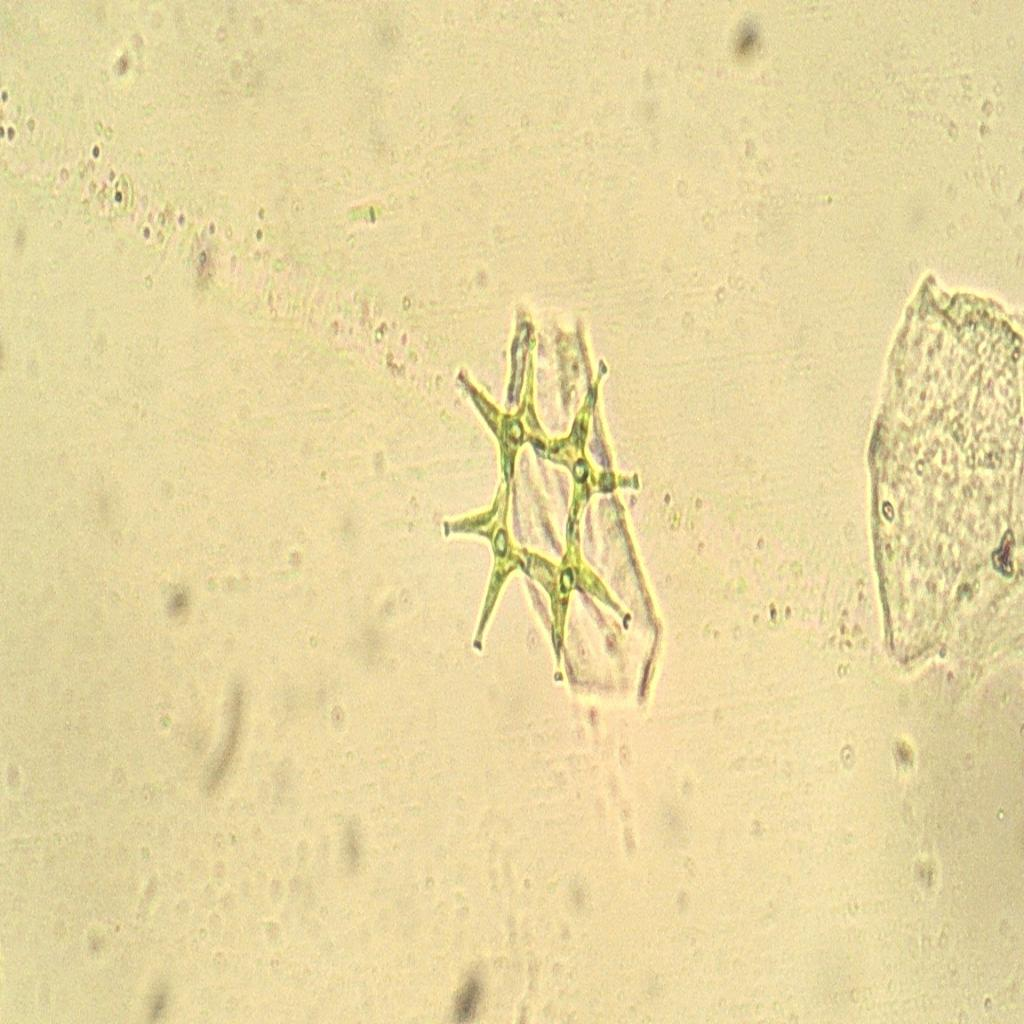Pediastrum_75O: (434, 302, 654, 720)
